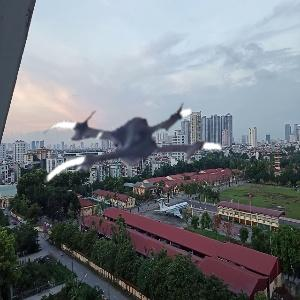drone: (43, 73, 220, 250)
